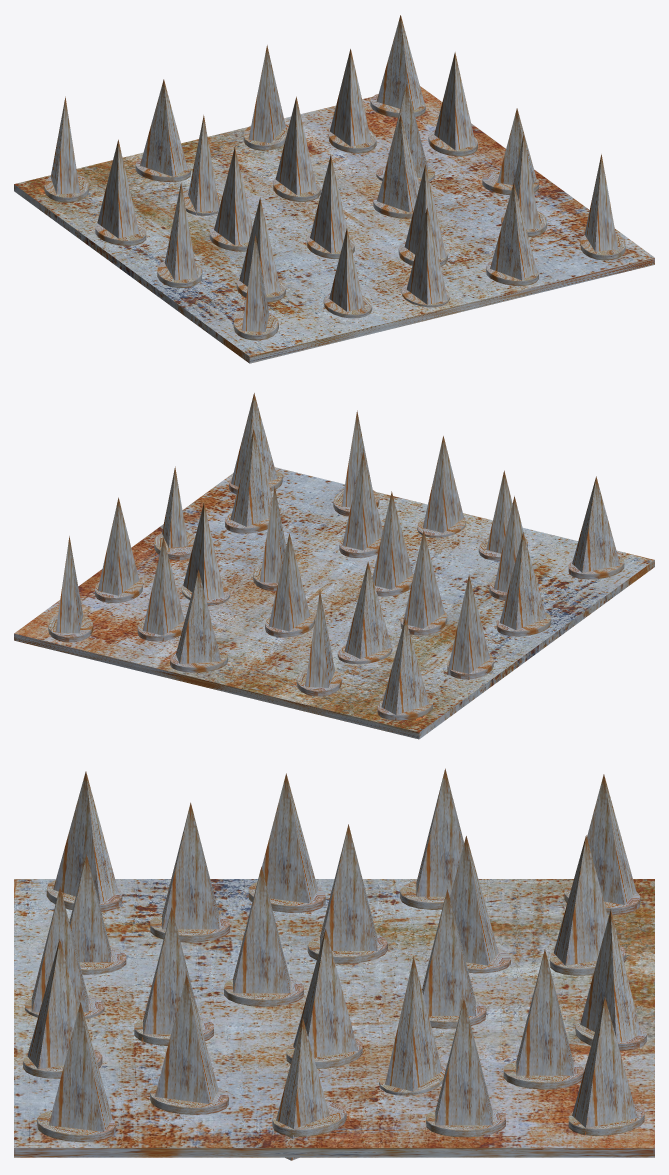
Rendered from 1 x 1 Spikes Textured.fbx.
3 views of the same model, one above another, from view 1: azimuth 30°, elevation 25°; view 2: azimuth 150°, elevation 25°; view 3: azimuth 270°, elevation 25° (orthographic). The views are drawn at different scales.
Visible parts, largest first — view 1: Box001; view 2: Box001; view 3: Box001.
Part boxes in pixels (x1,y1,x2,y2): Box001: (14,15,654,363); Box001: (14,393,654,739); Box001: (14,768,654,1160).
Bounding box in the file's own units: 99.72 × 26.11 × 100.
1 material, 1 textured.
